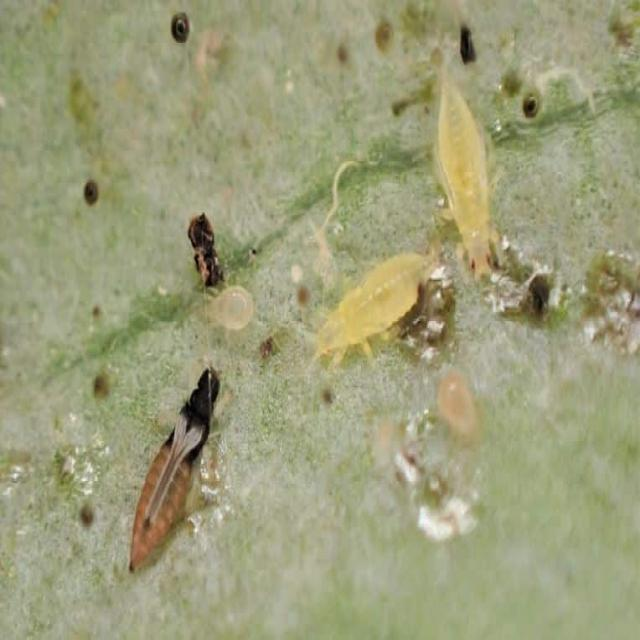Thrip-Adult-: (121, 358, 235, 581)
Thrip-Larva-: (422, 51, 508, 292), (310, 243, 439, 370)
